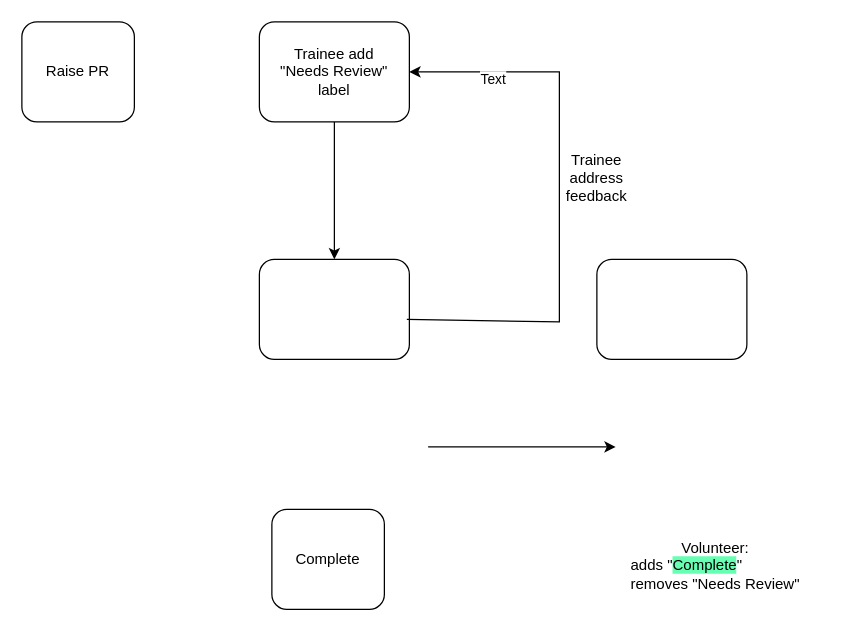
The diagram is 844 pixels wide and 631 high, and some of its shapes have lost their labels. Each missing label, with the box of its shape:
Trainee address comments and adds "Need Review" label: (596, 258, 747, 359)
Volunteer review: (258, 258, 409, 359)
